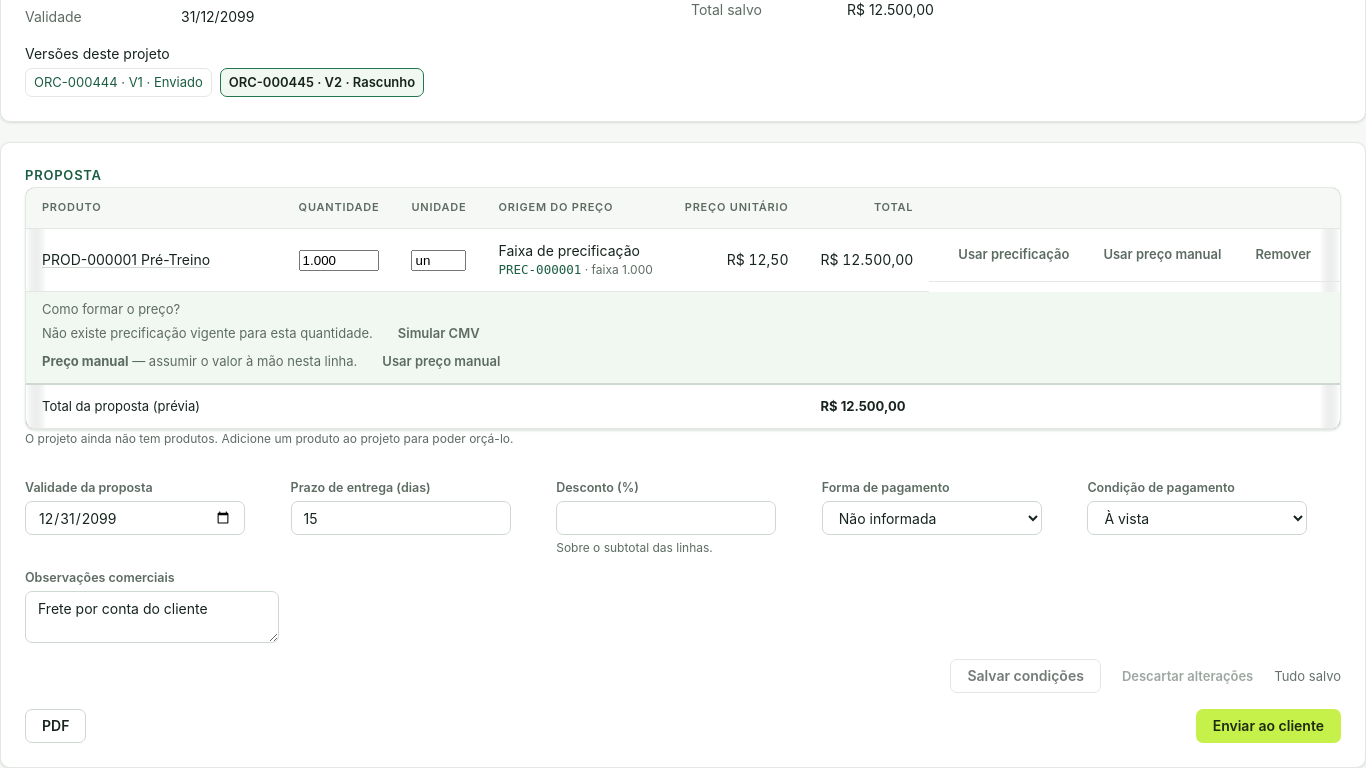
Test: Página do Orçamento — rascunho › envio pela página — cálculo parcial com base do preço completa: envia sem perguntar por custo
This screenshot has width=1366, height=768.
(page scrolled)
What coordinates should you click on to do the following:
click the button "Enviar ao cliente"
I would click on:
 (1268, 726)
Its box is [1196,709,1341,743].
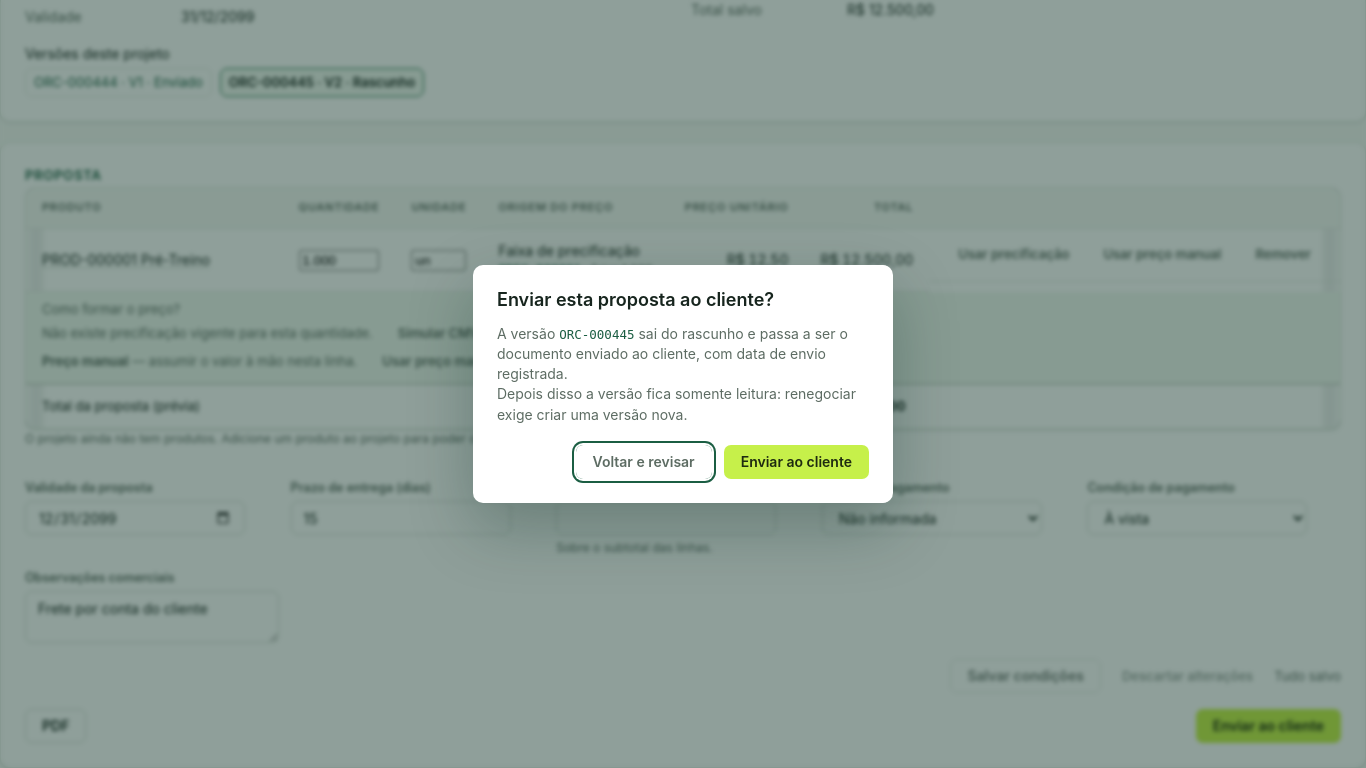
expect the heading "Enviar esta proposta ao cliente?" is shown: met, box [497,289,774,310]
What coordinates should you click on to do the following:
click the button "Enviar ao cliente"
I would click on:
 (796, 462)
Its box is [724,445,869,479].
(page scrolled)
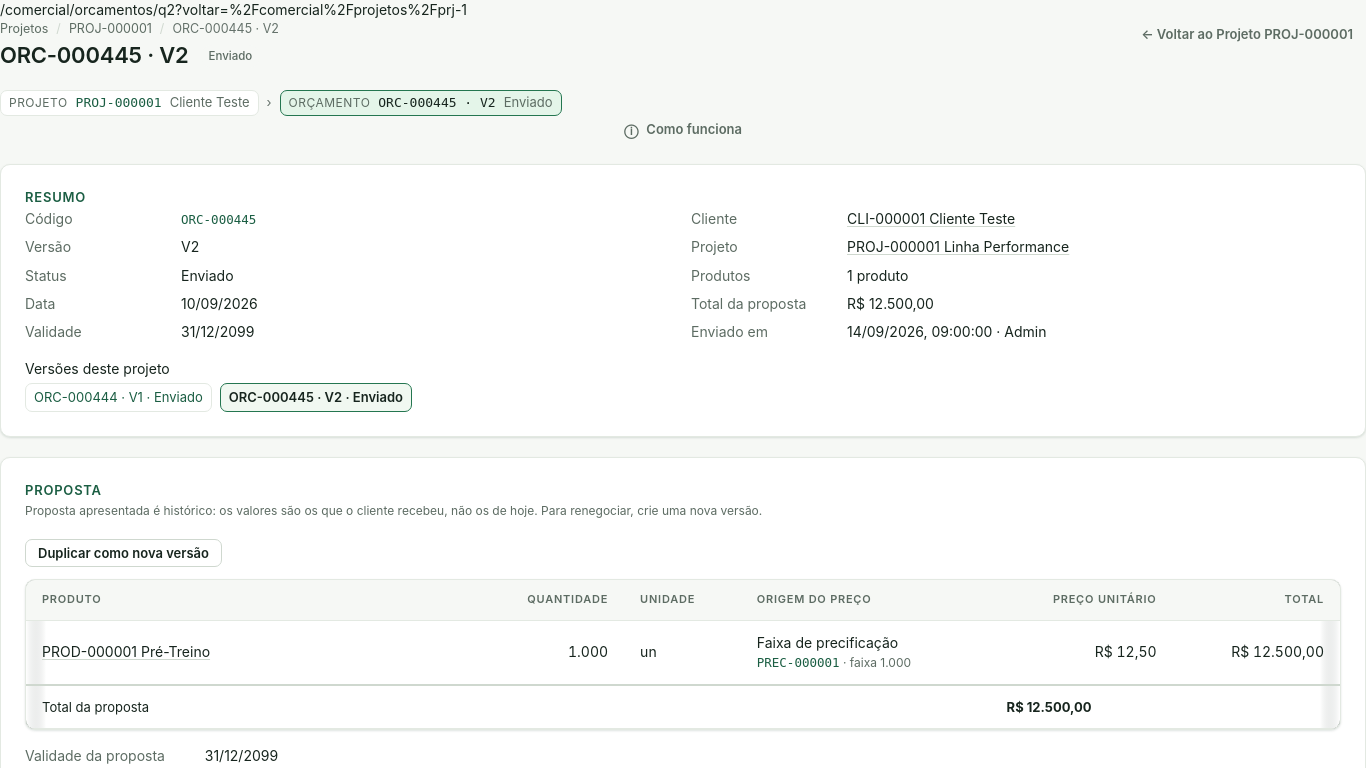
expect the 1st text "Enviado" is shown: met, box [200,45,260,68]
expect the button "Enviar ao cliente" is gone: met
